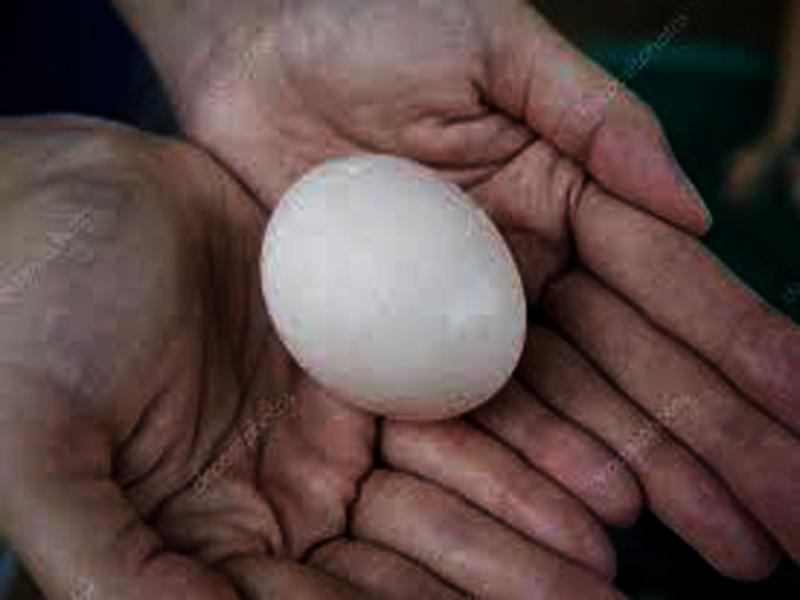Eggs: (262, 161, 527, 413)
